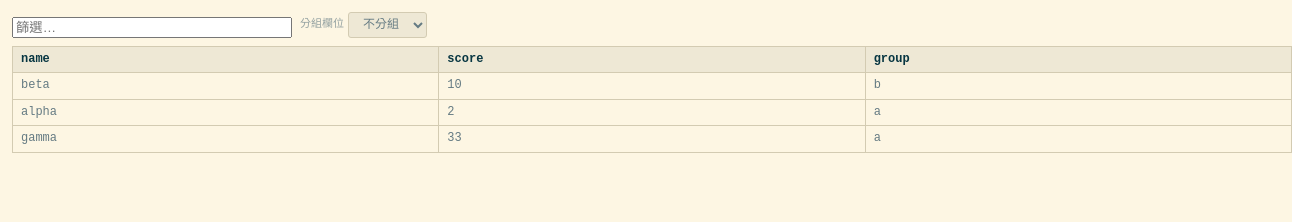
it: DataTable 分組 › adds a group header row per distinct value, in current row order
Select "group" in the dropdown labelled "分組欄位" at (388, 25), box [348,12,427,38]
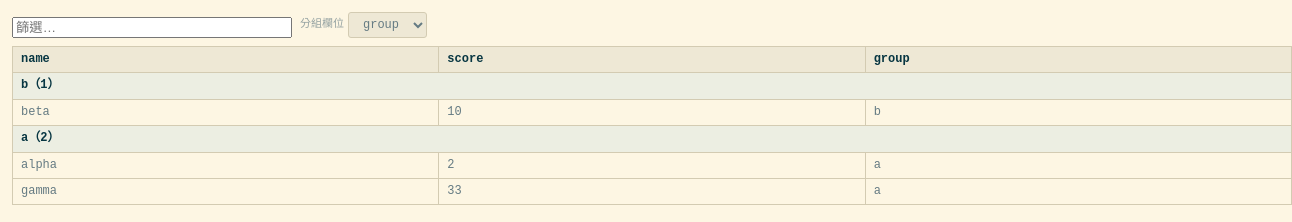
Now the elements with class "group-row" read "b（1）", "a（2）", in this order, box [12,73,1291,99]; [12,126,1291,152]
